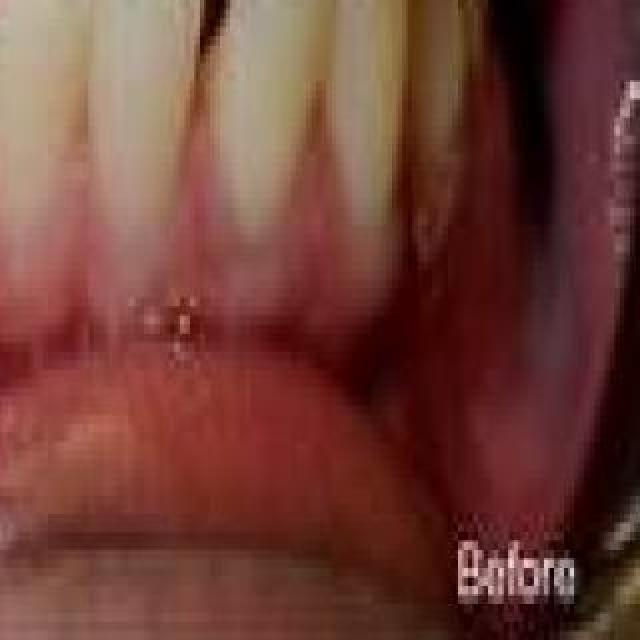calculus: (0, 58, 130, 168)
spacing: (162, 0, 236, 184), (0, 0, 90, 8)
